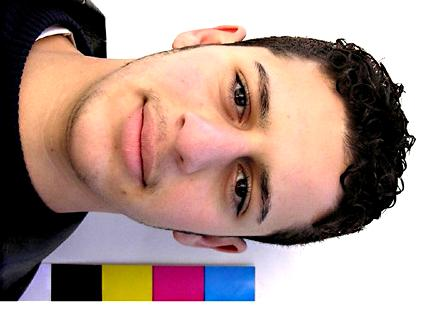mask: (67, 18, 380, 255)
